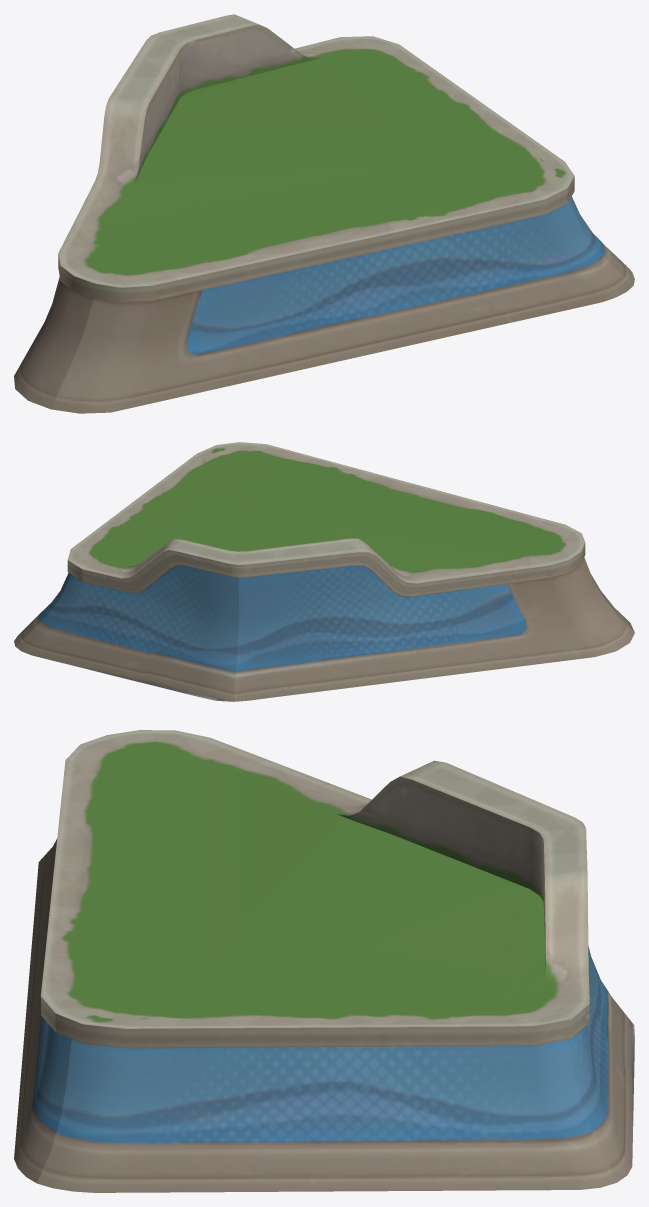
File: pref_sm_beach_techobstacle07d_mirror_lv3.fbx
The picture shows the model from 3 angles, top to bottom: view 1: azimuth 30°, elevation 25°; view 2: azimuth 150°, elevation 25°; view 3: azimuth 270°, elevation 25°; orthographic projection. The views are drawn at different scales.
Visible parts, largest first — view 1: pref_sm_beach_techobstacle07d1_mirror_lv3; view 2: pref_sm_beach_techobstacle07d1_mirror_lv3; view 3: pref_sm_beach_techobstacle07d1_mirror_lv3.
Boxes of the visible parts, <box> form: pref_sm_beach_techobstacle07d1_mirror_lv3: <box>14,14,634,413</box>; pref_sm_beach_techobstacle07d1_mirror_lv3: <box>14,442,634,701</box>; pref_sm_beach_techobstacle07d1_mirror_lv3: <box>14,730,634,1192</box>.
Size of the model in its own units: 8.35 by 2.13 by 6.06.
